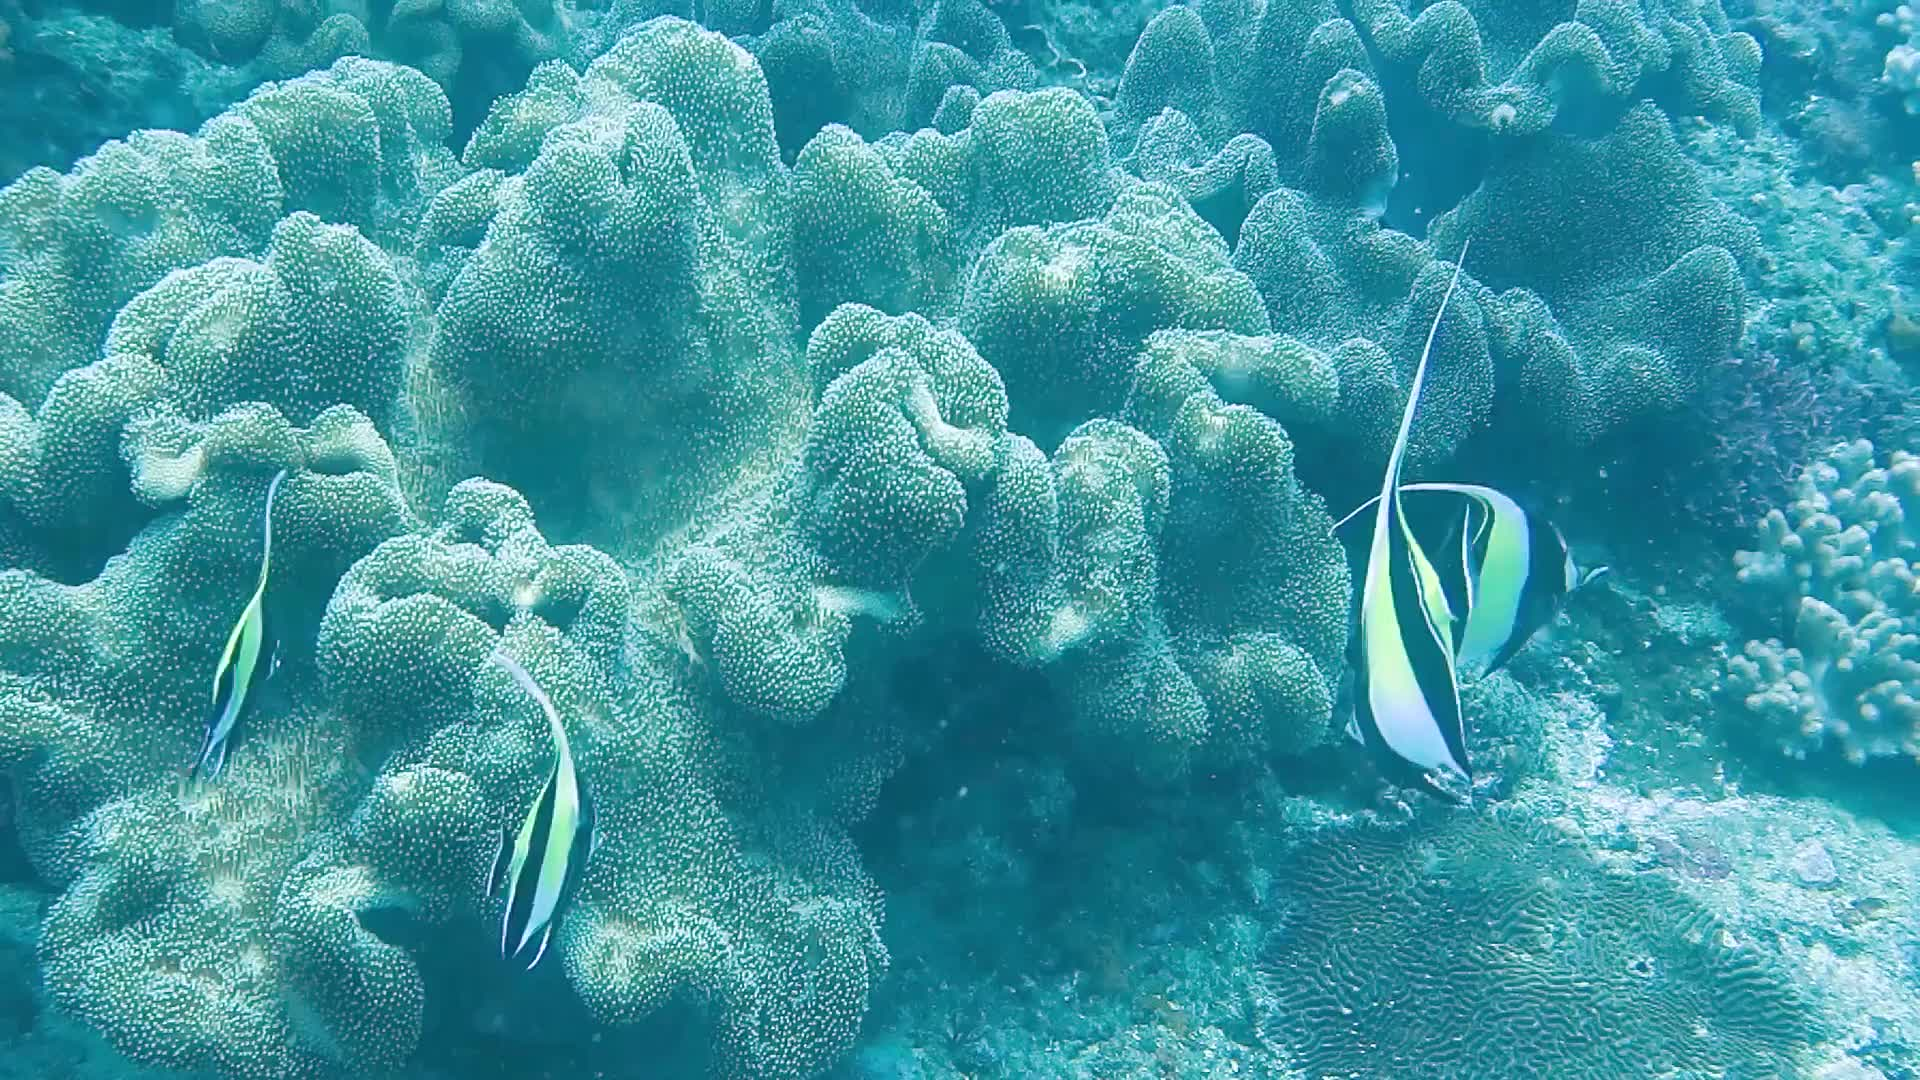Zanclus cornutus: (1298, 481, 1466, 796), (1444, 434, 1627, 709), (454, 724, 626, 961), (179, 506, 311, 796)
